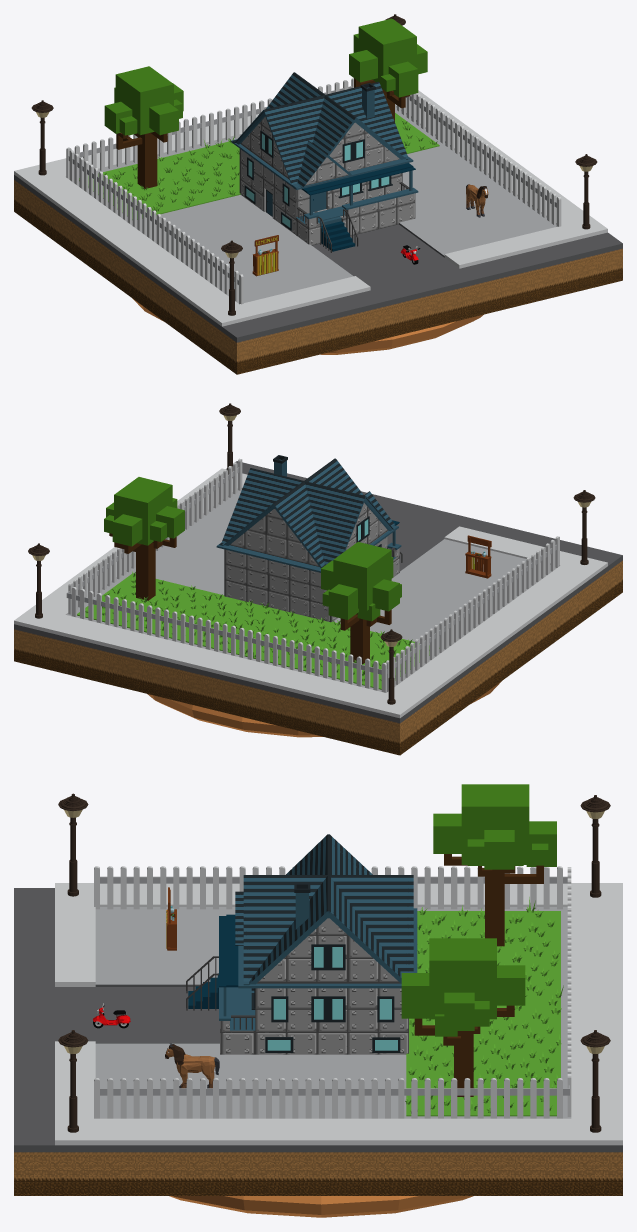
The picture shows the model from 3 angles, top to bottom: view 1: azimuth 30°, elevation 25°; view 2: azimuth 150°, elevation 25°; view 3: azimuth 270°, elevation 25°; orthographic projection. The views are drawn at different scales.
Parts seen in each view (by area): view 1: Cube.004, Cube.078, UNDERGROUND_PIZZA, OBJRANDOM_LEMONADE_STAND, ANIMAL_CABALLO; view 2: Cube.004, Cube.078, UNDERGROUND_PIZZA, OBJRANDOM_LEMONADE_STAND; view 3: Cube.004, Cube.078, UNDERGROUND_PIZZA, ANIMAL_CABALLO.
Part boxes in pixels (x1,y1,x2,y2): Cube.004: (14,14,622,374); Cube.078: (231,72,418,252); UNDERGROUND_PIZZA: (132,298,483,354); OBJRANDOM_LEMONADE_STAND: (252,235,278,276); ANIMAL_CABALLO: (466,184,488,217); Cube.004: (14,403,622,755); Cube.078: (216,455,402,622); UNDERGROUND_PIZZA: (147,681,501,737); OBJRANDOM_LEMONADE_STAND: (465,535,491,578); Cube.004: (14,784,622,1195); Cube.078: (186,834,417,1054); UNDERGROUND_PIZZA: (169,1196,473,1217); ANIMAL_CABALLO: (165,1043,219,1088).
Size of the model in its own units: 4000 by 1812 by 4000.
42 materials, 5 textured.
